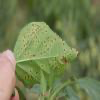Bell_pepper leaf spot: (15, 20, 82, 90)
